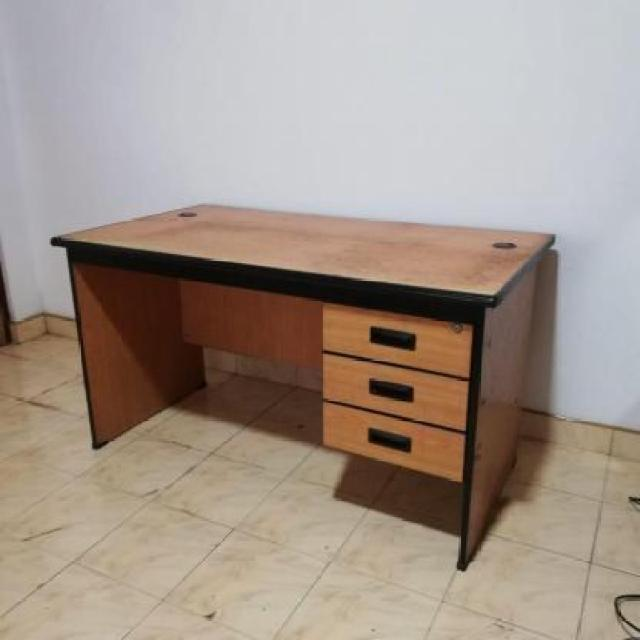tables: (49, 200, 556, 571)
